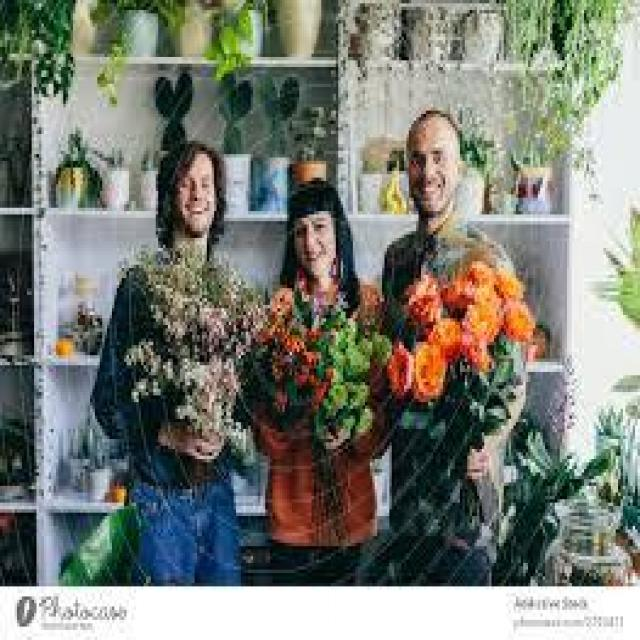organic waste: (244, 295, 378, 446), (151, 266, 229, 424), (462, 302, 494, 355), (409, 342, 440, 395), (501, 305, 538, 345), (500, 263, 529, 307)
